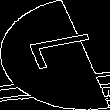L_E: (11, 33, 99, 77)
